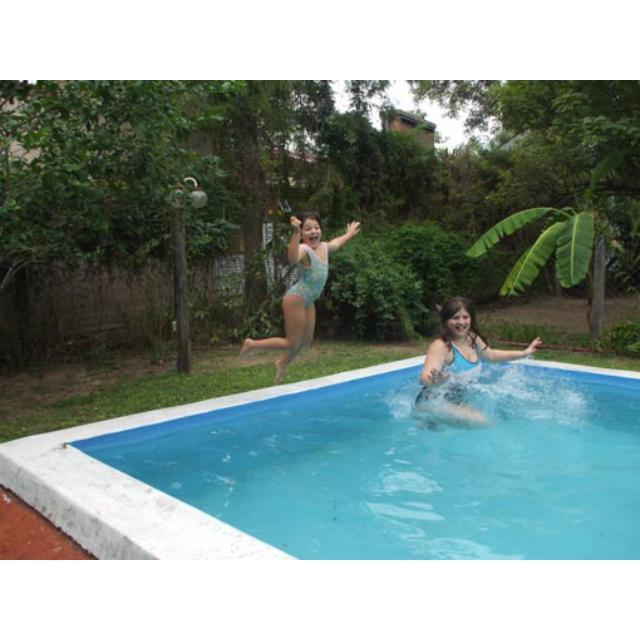human: (423, 294, 538, 427)
